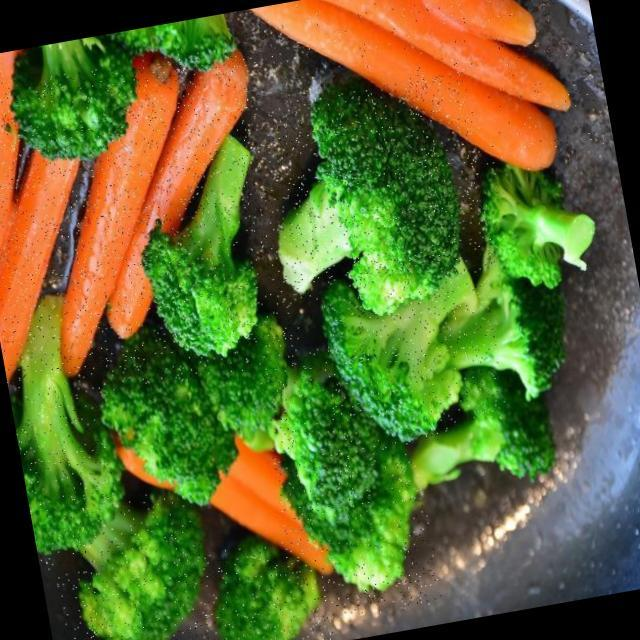Brocoli: (242, 69, 494, 304), (253, 332, 441, 626), (120, 115, 293, 376), (315, 238, 509, 450), (0, 287, 125, 574), (41, 485, 220, 640), (196, 533, 334, 640)
